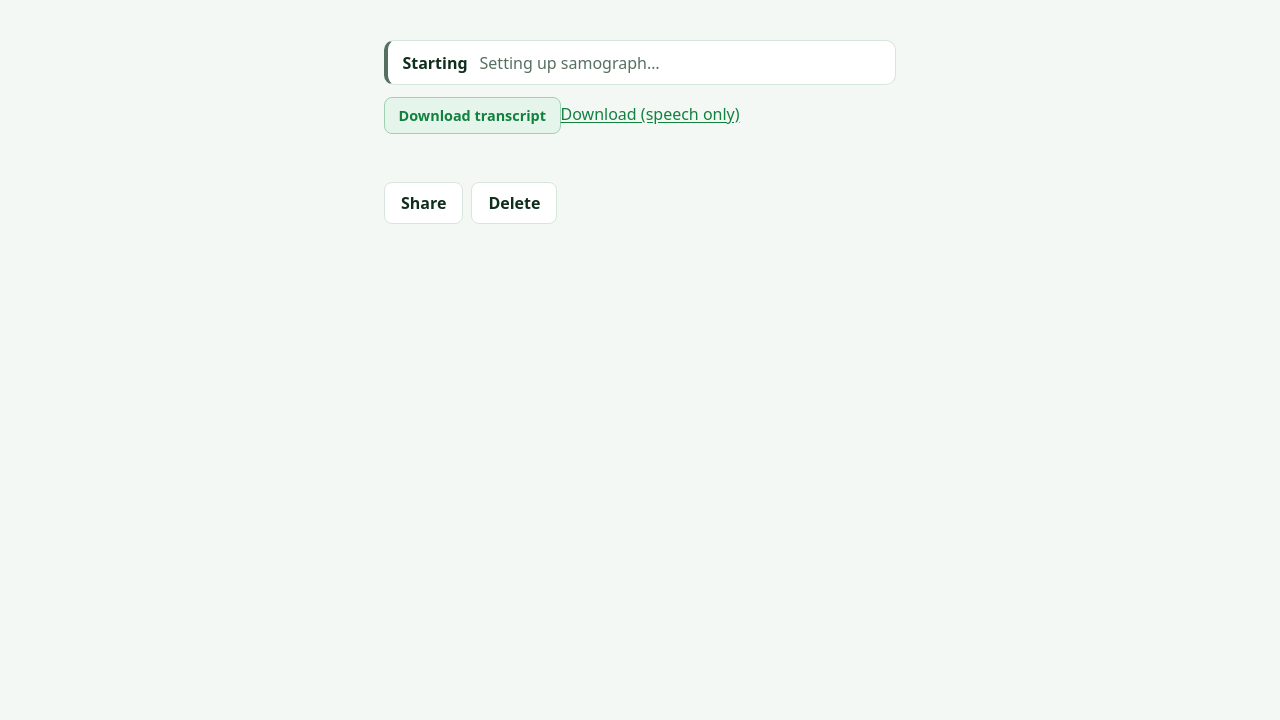
OwnerCallView — owner per-call page (SPEC §4.1, Stories 1/2/4) › Cancel dismisses the confirmation without deleting
Click the button "Delete". click: (514, 203)
box: [471,182,557,224]
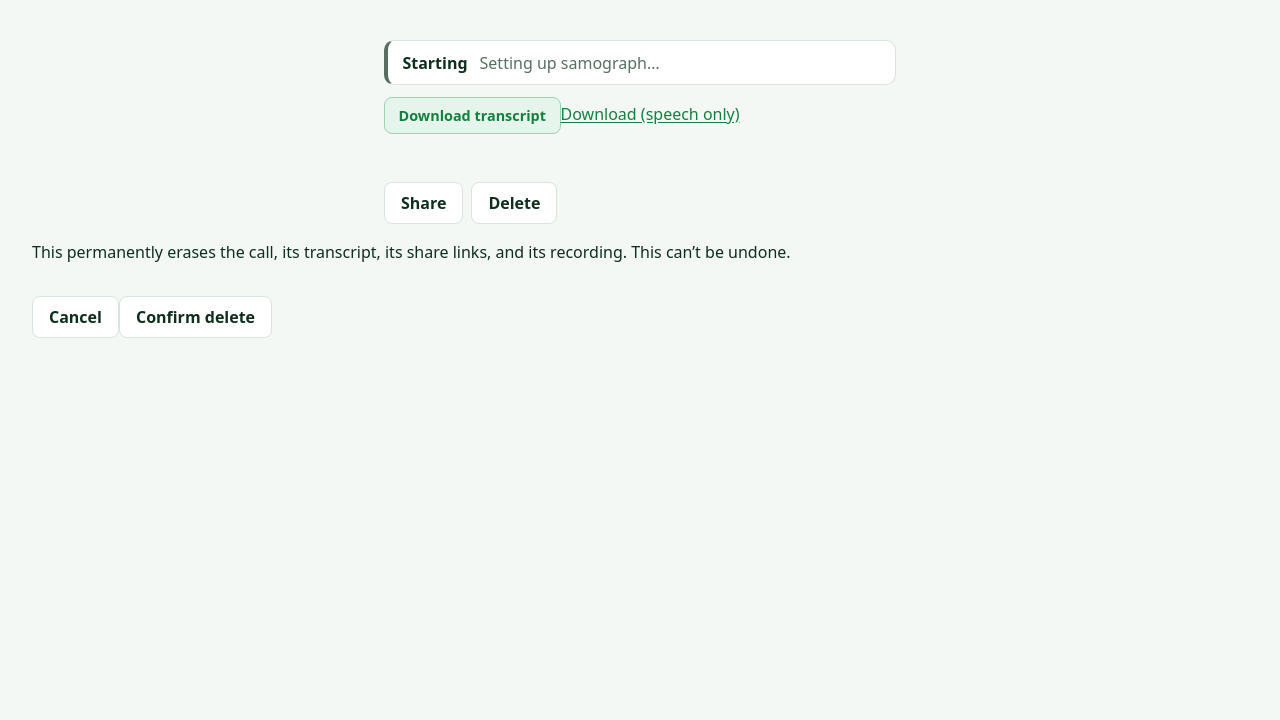
Click the button "Cancel". click: (75, 317)
box: [32,296,119,338]
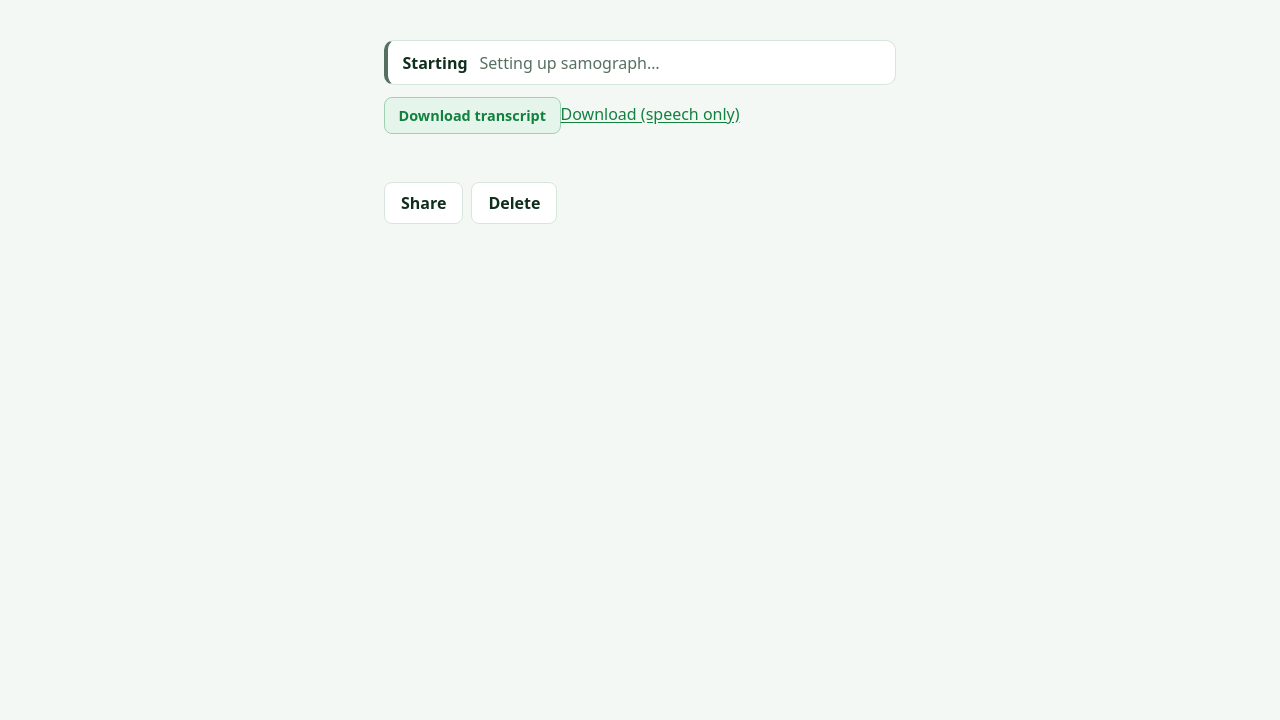
Now the text "can.t be undone" is gone
